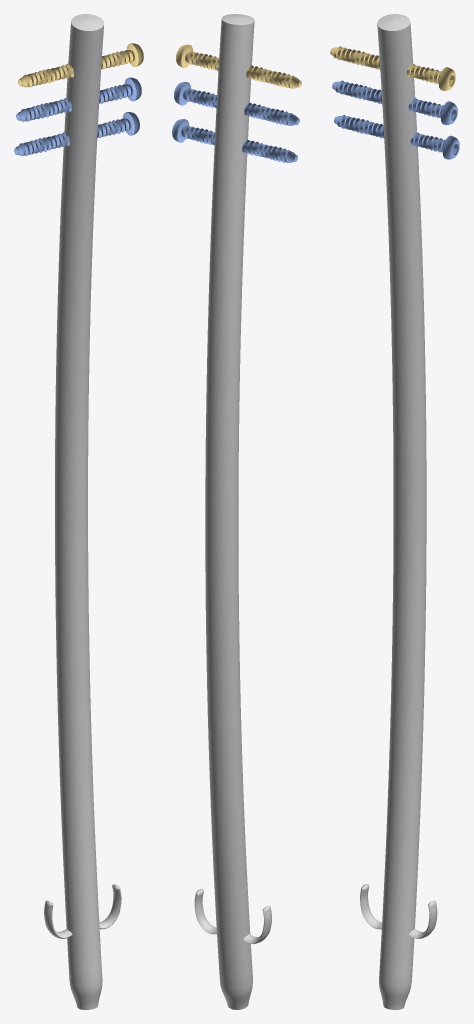
The model's file is navy_11x360_lod1.glb.
3 views of the same model, side by side, from view 1: azimuth 30°, elevation 25°; view 2: azimuth 150°, elevation 25°; view 3: azimuth 330°, elevation 25° (orthographic).
Parts seen in each view (by area): view 1: navy; view 2: navy; view 3: navy.
Part boxes in pixels (bbox=[...]): navy: bbox=[14, 14, 143, 1009]; navy: bbox=[172, 14, 301, 1009]; navy: bbox=[330, 14, 459, 1009].
Bounding box in the file's own units: 0.046 × 0.36 × 0.0216.
